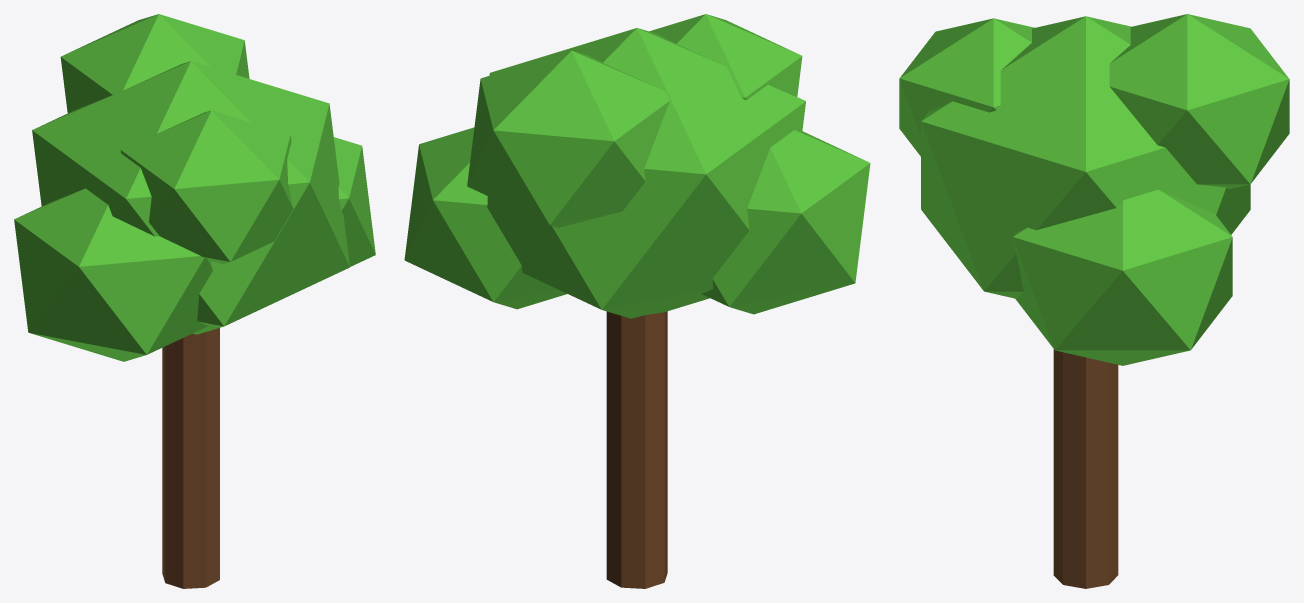
Rendered from arbol.glb.
3 views of the same model, side by side, from view 1: azimuth 30°, elevation 25°; view 2: azimuth 150°, elevation 25°; view 3: azimuth 270°, elevation 25° (orthographic). The views are drawn at different scales.
Visible parts, largest first — view 1: HojasArbol, TroncoArbol; view 2: HojasArbol, TroncoArbol; view 3: HojasArbol, TroncoArbol.
Boxes of the visible parts, box(x1,y1,x2,y2) form: HojasArbol: box(14, 14, 375, 361); TroncoArbol: box(162, 328, 219, 588); HojasArbol: box(404, 14, 870, 318); TroncoArbol: box(606, 311, 667, 588); HojasArbol: box(899, 14, 1289, 365); TroncoArbol: box(1053, 349, 1118, 588).
Size of the model in its own units: 5.05 by 6.8 by 4.23.
